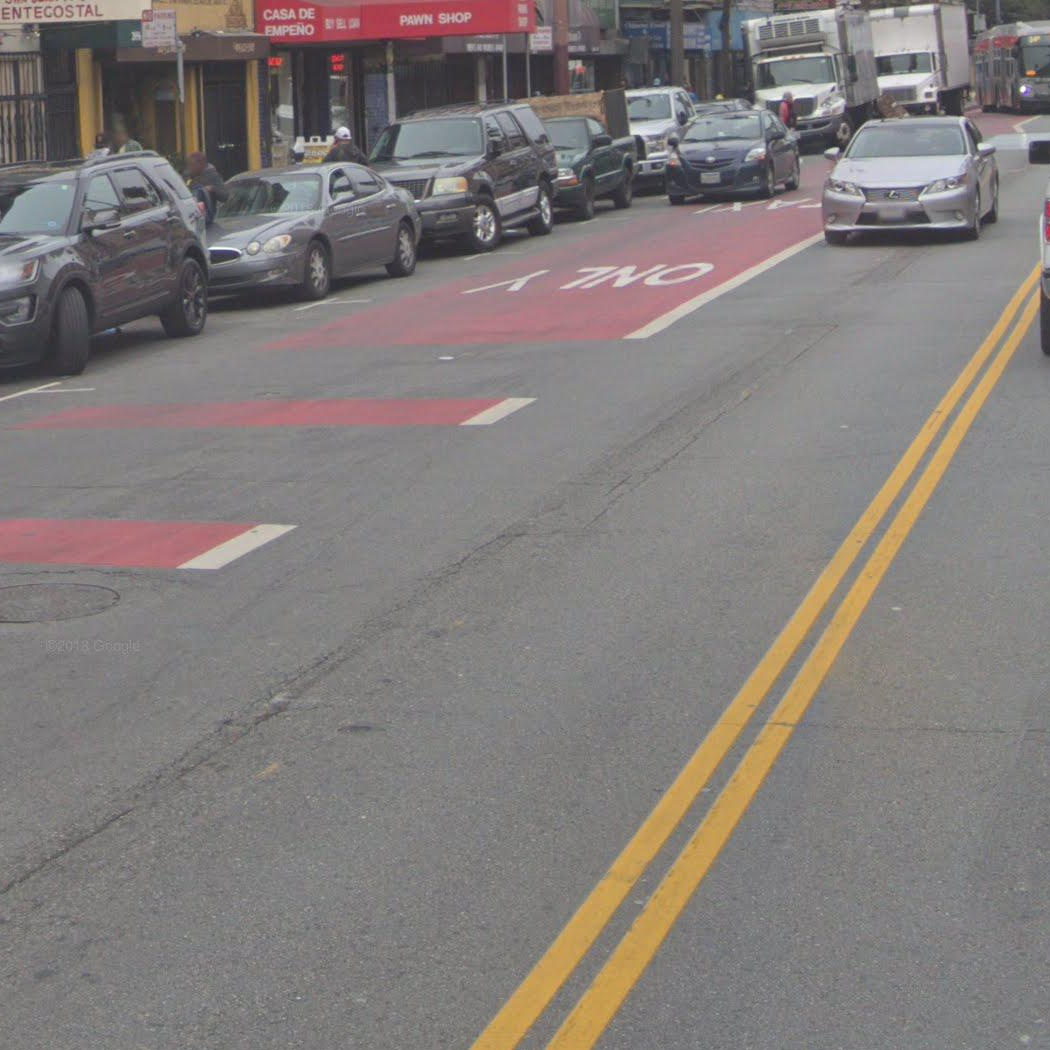No Parking: (139, 8, 178, 50)
